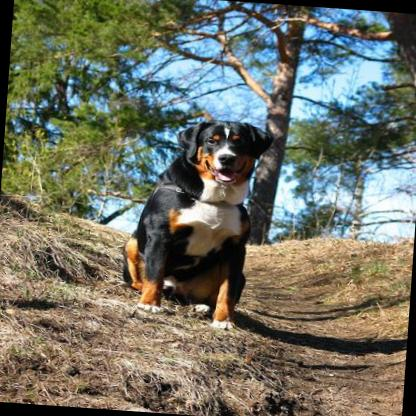Appenzeller: (115, 111, 275, 330)
